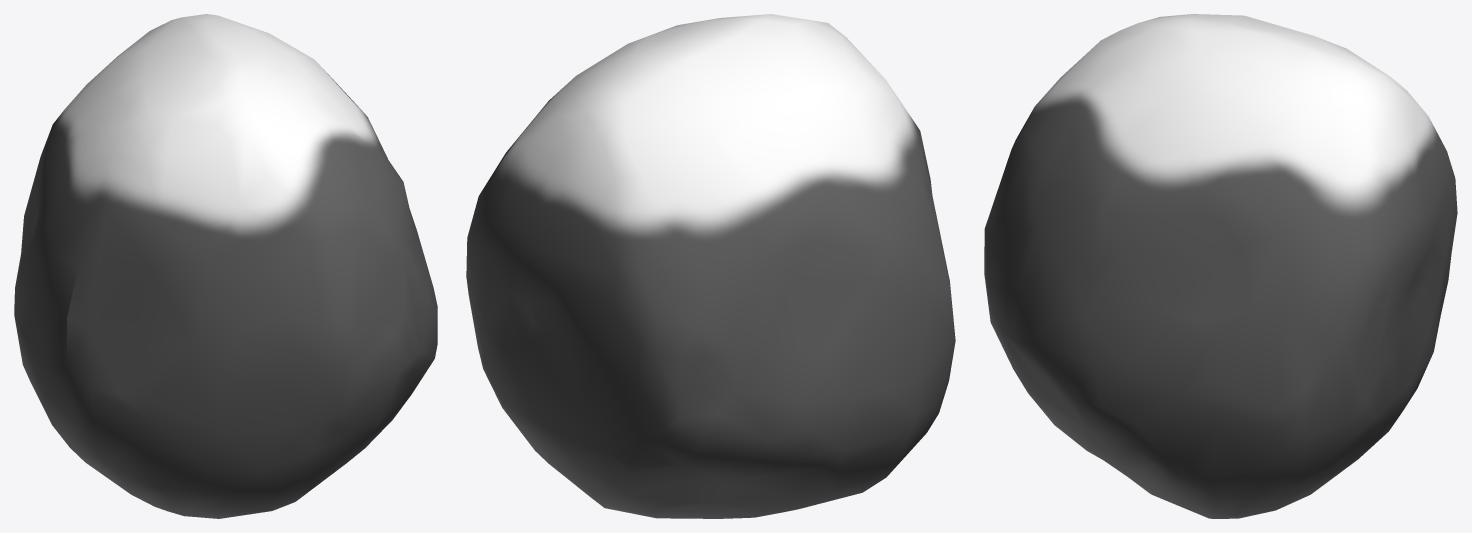
File: Rock_1.fbx
The picture shows the model from 3 angles, left to right: view 1: azimuth 30°, elevation 25°; view 2: azimuth 150°, elevation 25°; view 3: azimuth 270°, elevation 25°; orthographic projection. The views are drawn at different scales.
Parts seen in each view (by area): view 1: rock_1; view 2: rock_1; view 3: rock_1.
Part boxes in pixels (left/top/right/bottom): rock_1: left=14, top=14, right=437, bottom=518; rock_1: left=466, top=14, right=955, bottom=518; rock_1: left=984, top=14, right=1457, bottom=518.
Size of the model in its own units: 94.6 by 107 by 100.
